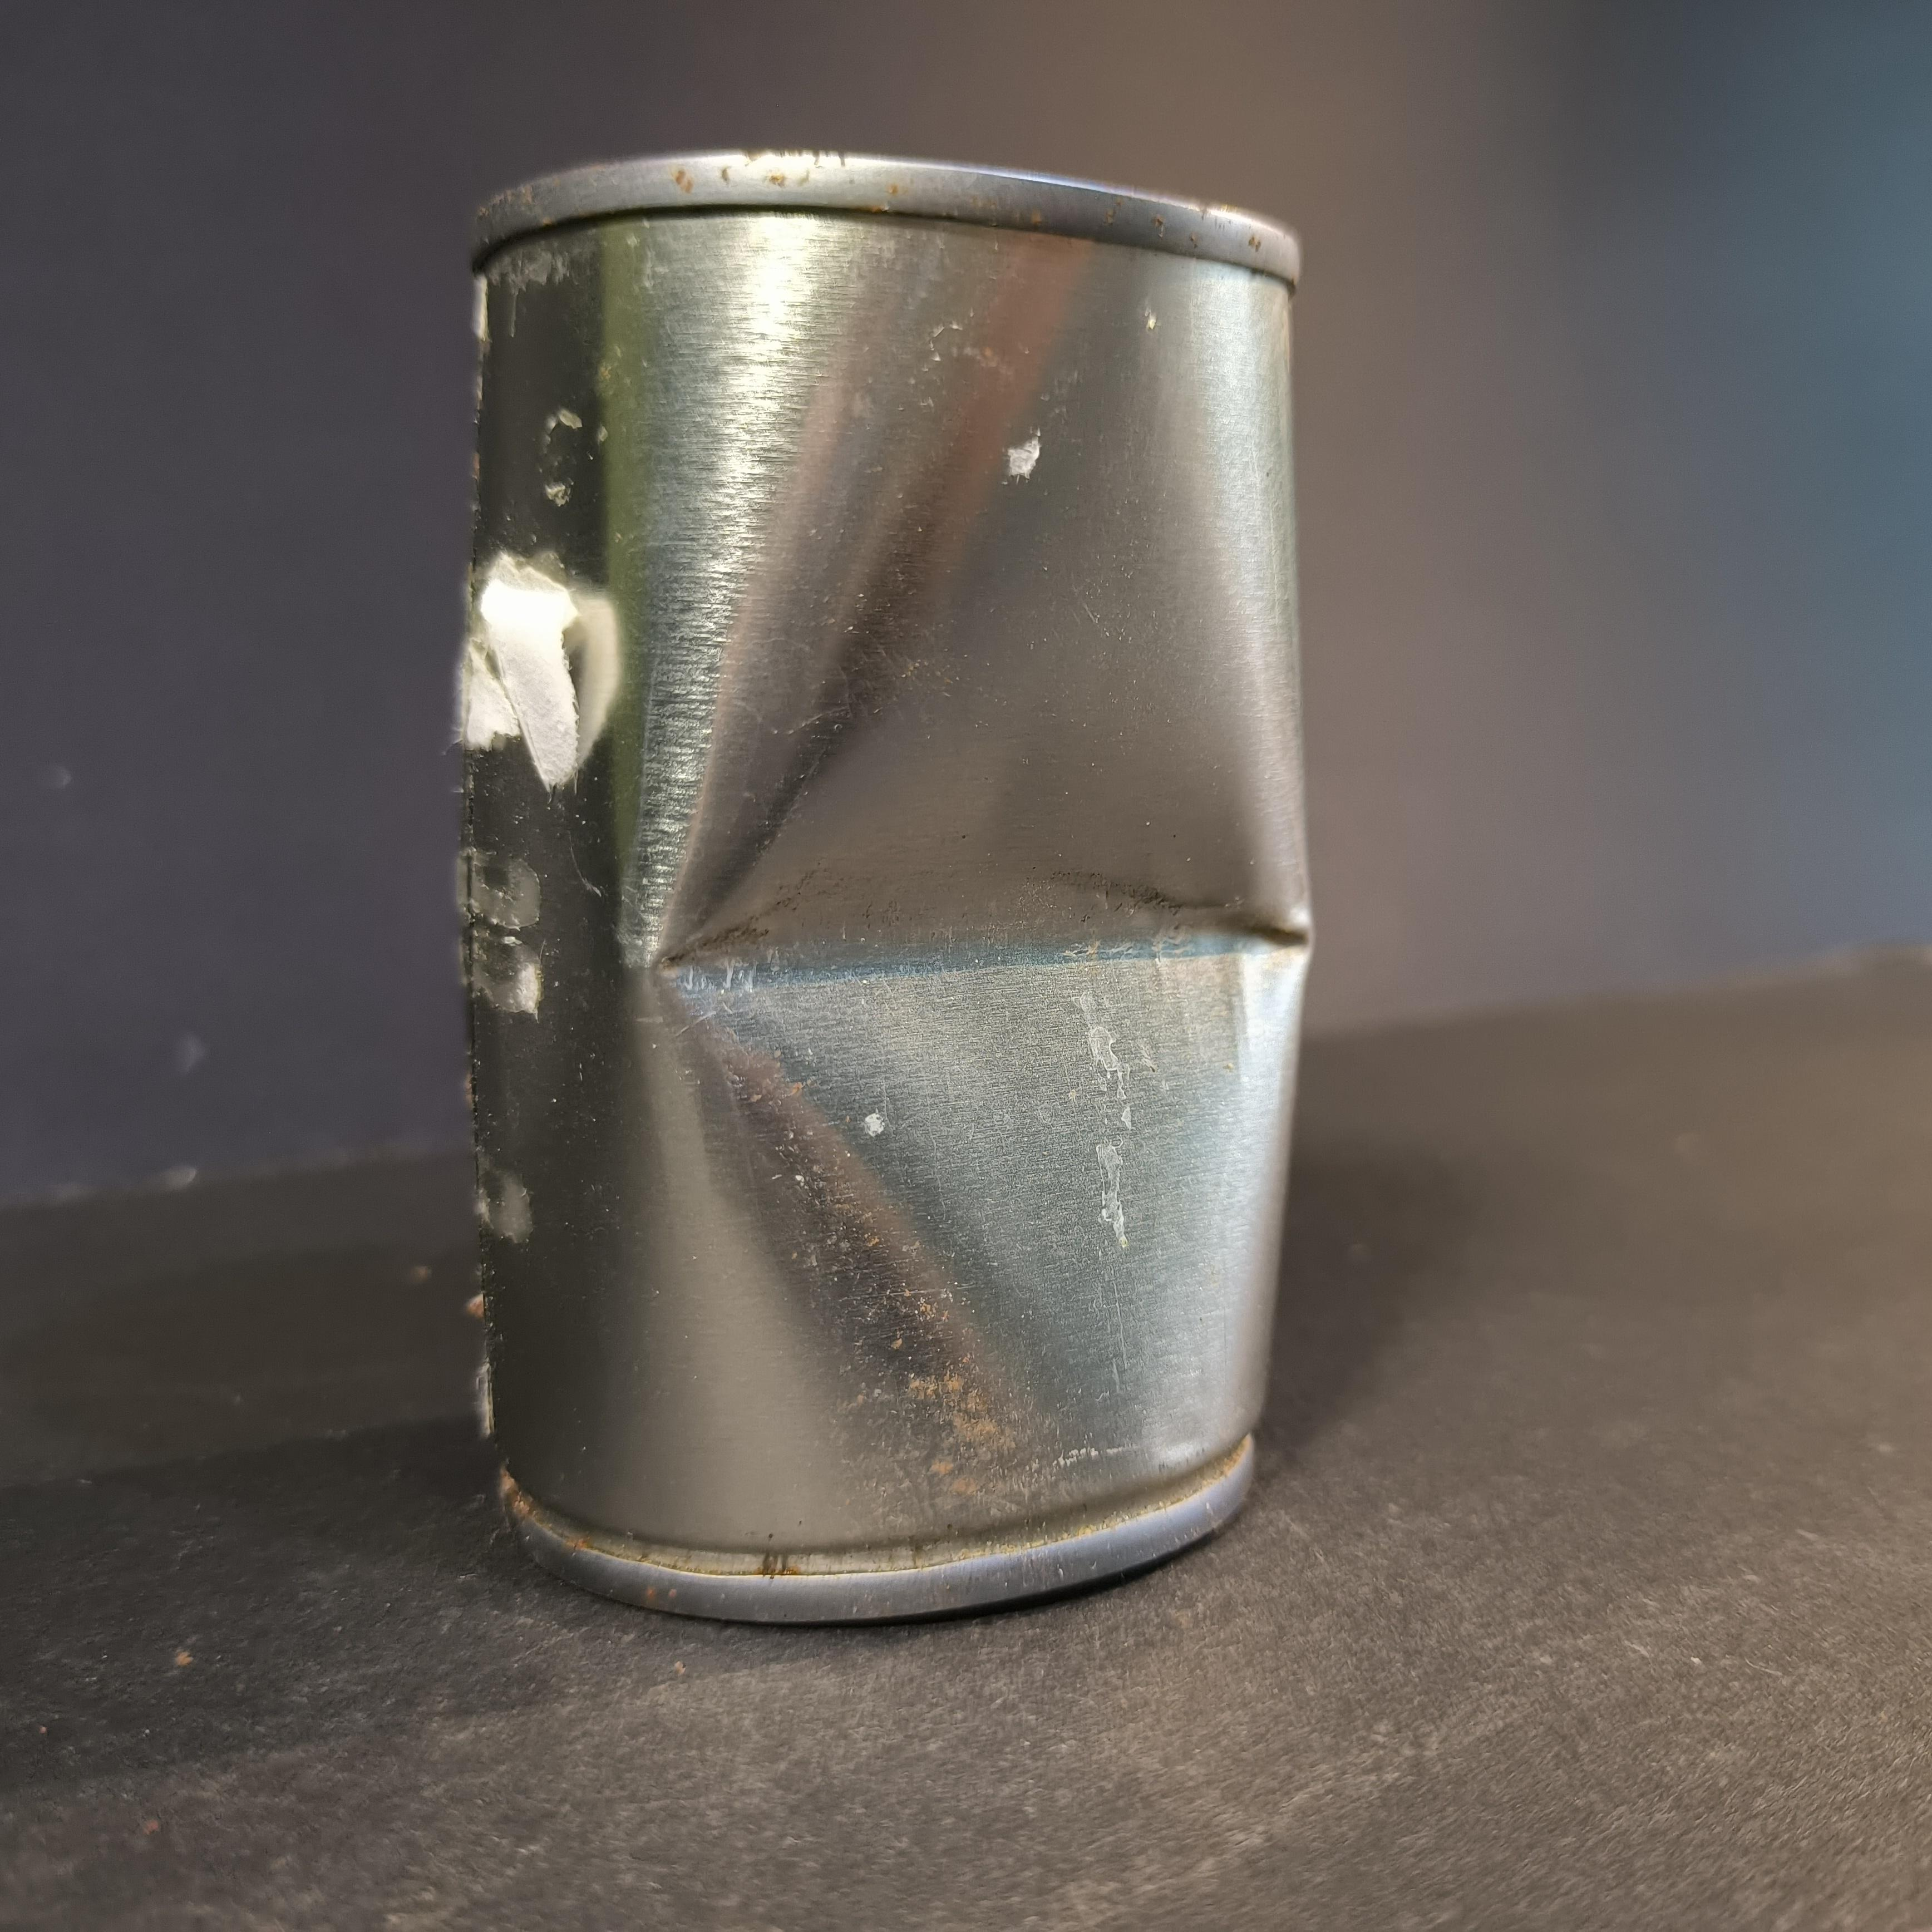Major Defect: (449, 145, 1322, 1631)
